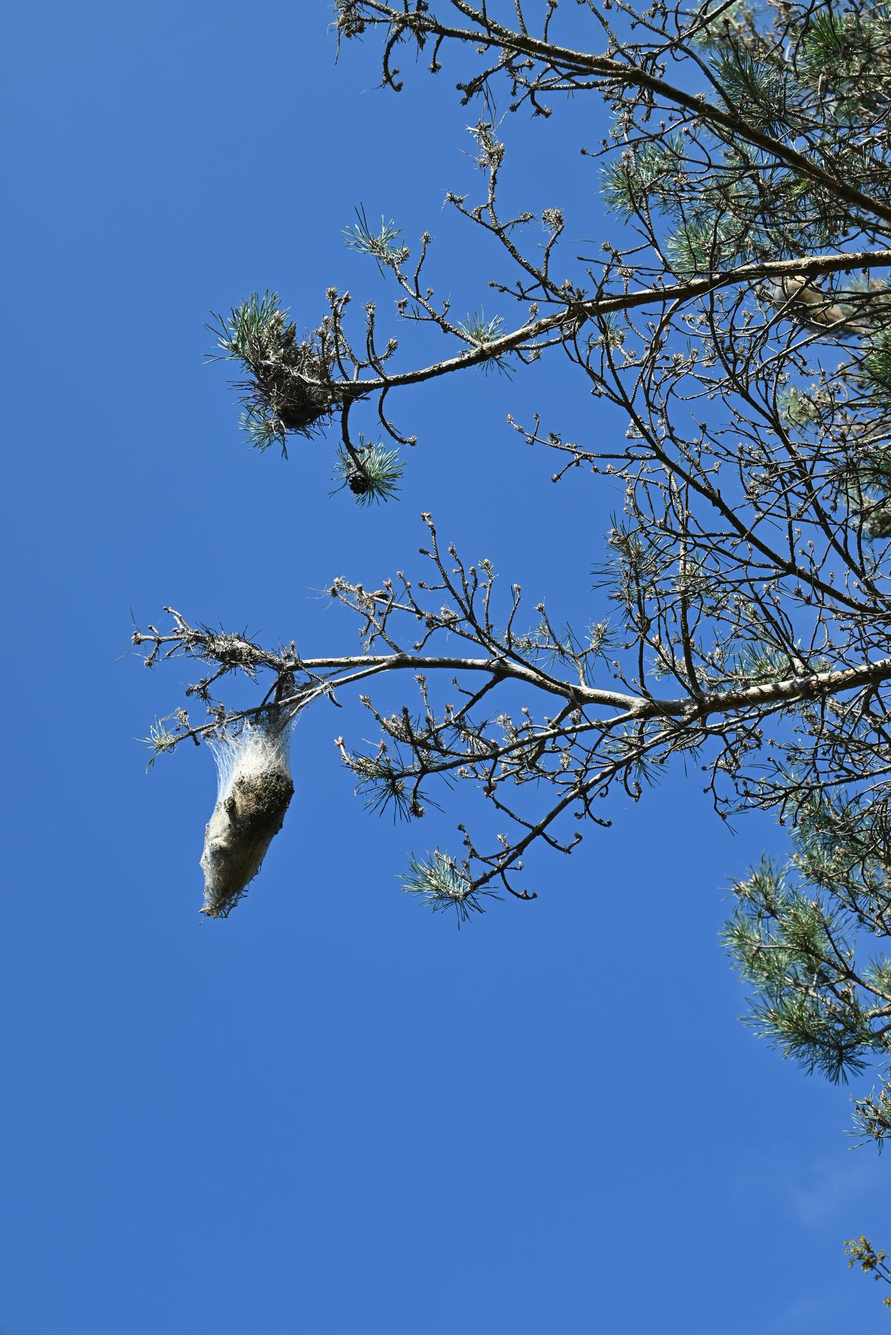thaumatopoea pityocampa jajno gnijezdo: (195, 698, 298, 921)
